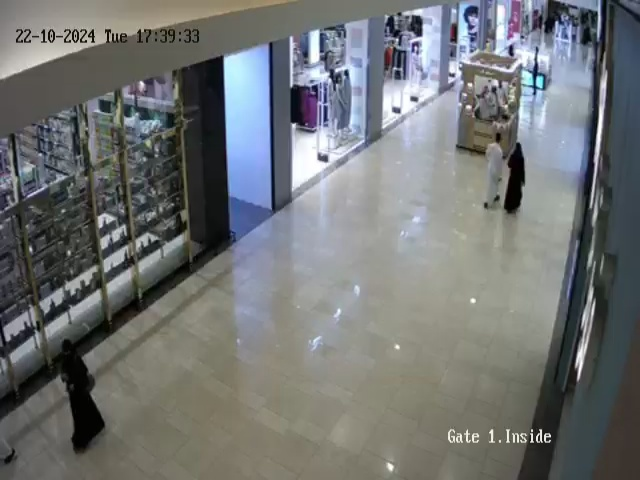female: (56, 338, 106, 454), (503, 142, 526, 213), (582, 21, 591, 49)
male: (482, 133, 504, 210)
other: (334, 71, 346, 145), (342, 69, 356, 127), (409, 39, 421, 103), (325, 63, 333, 149)
